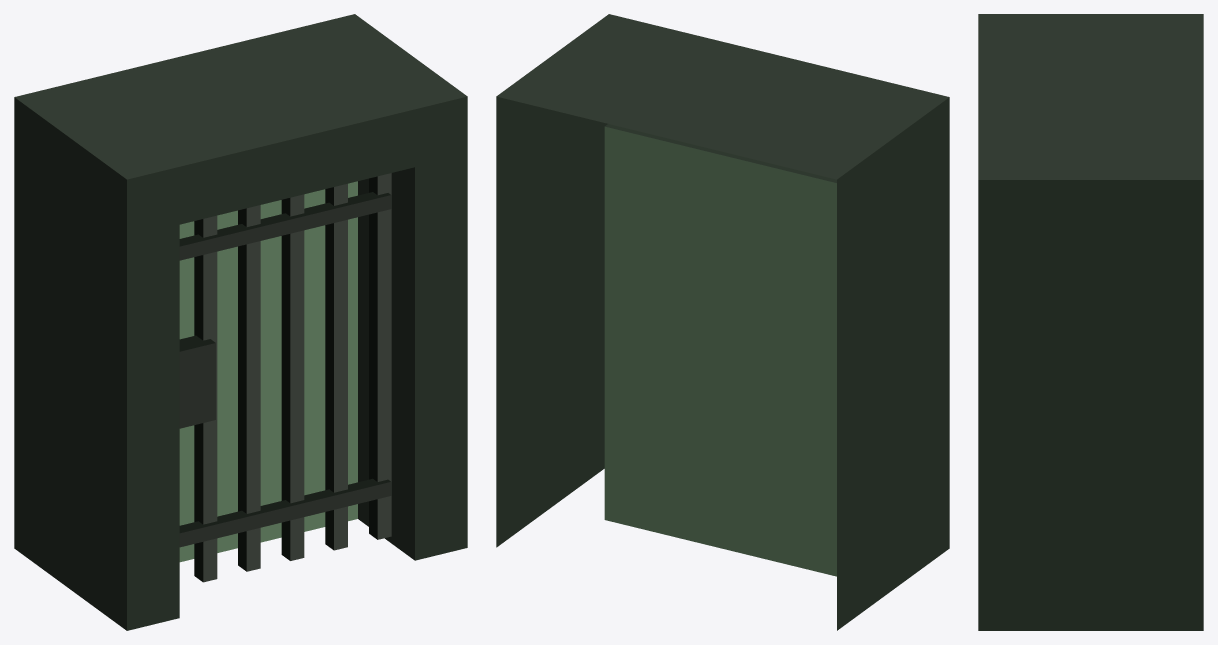
File: SF_Bld_Castle_SmallDoor_01.glb
3 views of the same model, side by side, from view 1: azimuth 30°, elevation 25°; view 2: azimuth 150°, elevation 25°; view 3: azimuth 270°, elevation 25° (orthographic).
Visible parts, largest first — view 1: SF_Bld_Castle_SmallDoor_01; view 2: SF_Bld_Castle_SmallDoor_01; view 3: SF_Bld_Castle_SmallDoor_01.
Part boxes in pixels (x1=…): SF_Bld_Castle_SmallDoor_01: x1=14, y1=14, x2=467, y2=630; SF_Bld_Castle_SmallDoor_01: x1=496, y1=14, x2=949, y2=630; SF_Bld_Castle_SmallDoor_01: x1=978, y1=14, x2=1203, y2=630.
Size of the model in its own units: 0.0252 by 0.0319 by 0.0144.
1 material, 1 textured.
